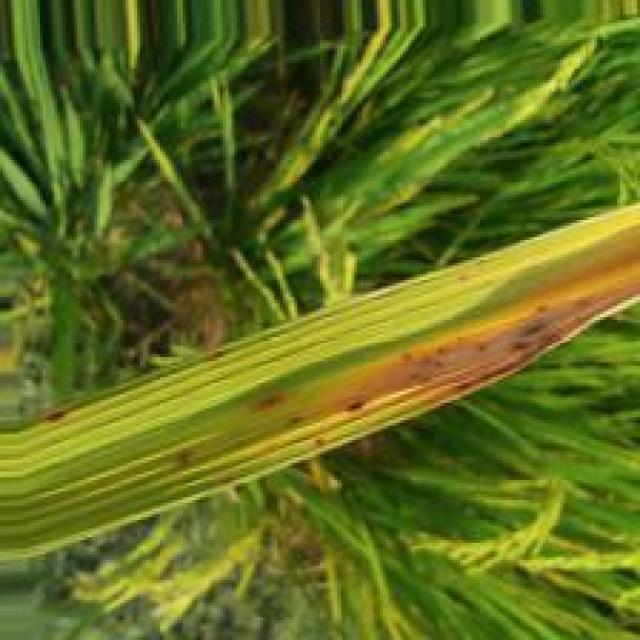Bacterial_Leaf_Blight: (240, 225, 640, 462), (256, 387, 298, 411), (45, 407, 71, 424), (178, 446, 198, 466)
